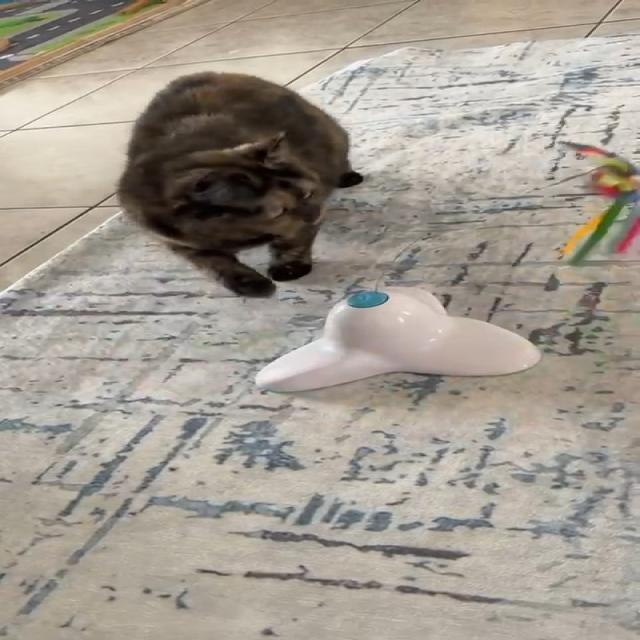authorized: (115, 70, 364, 298)
